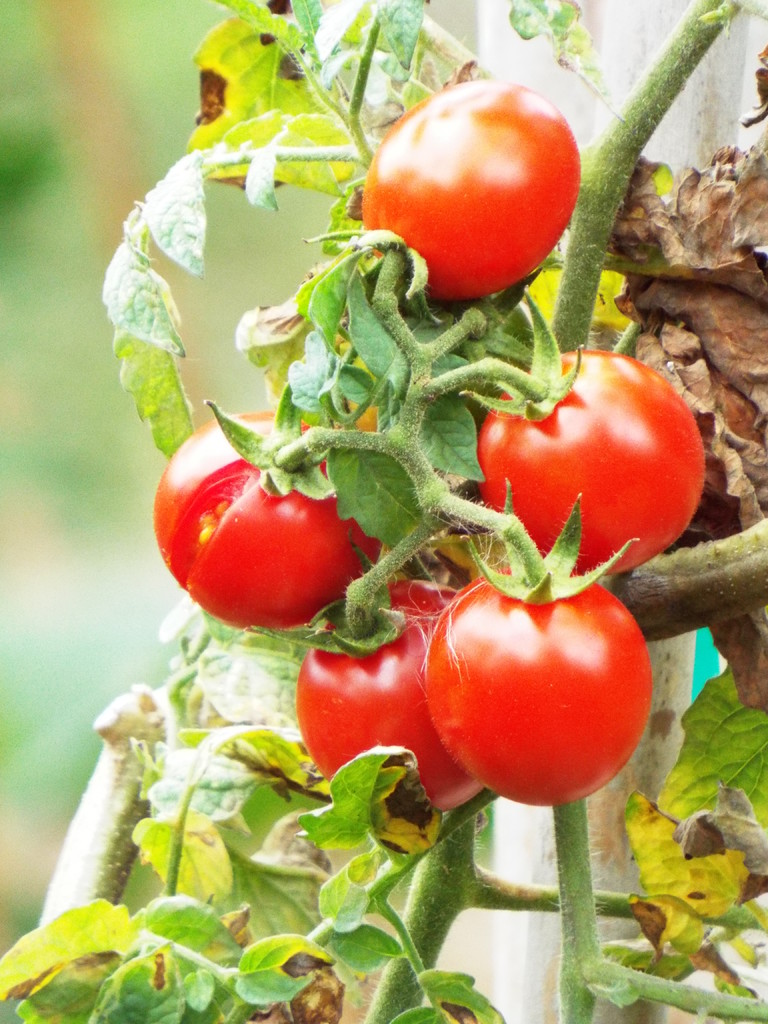Tomato: (478, 292, 710, 581), (419, 570, 666, 789), (147, 406, 381, 630), (362, 74, 579, 310), (297, 579, 486, 822)
